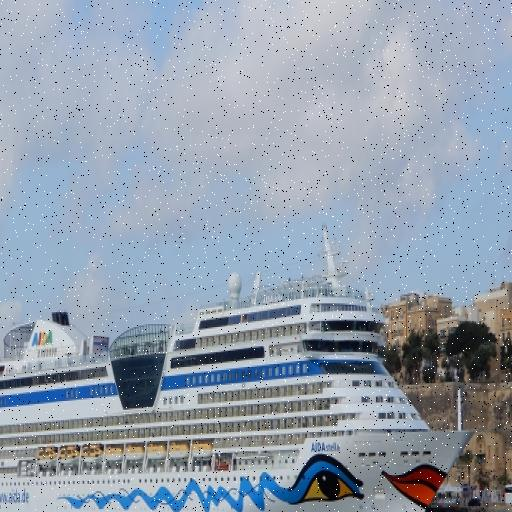cruises: (1, 218, 475, 512)
